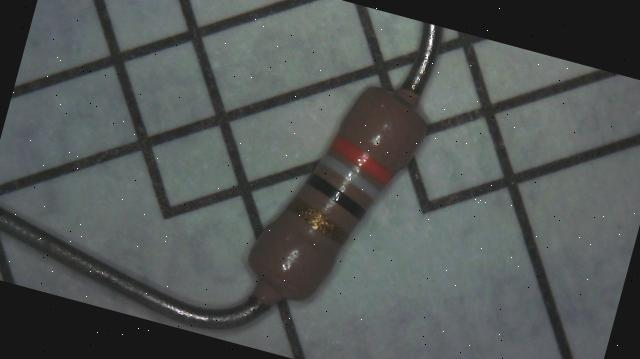black: (301, 172, 371, 220)
gold: (284, 196, 354, 244)
orange: (326, 134, 398, 185)
resistor: (222, 62, 450, 322)
white: (314, 150, 386, 200)
